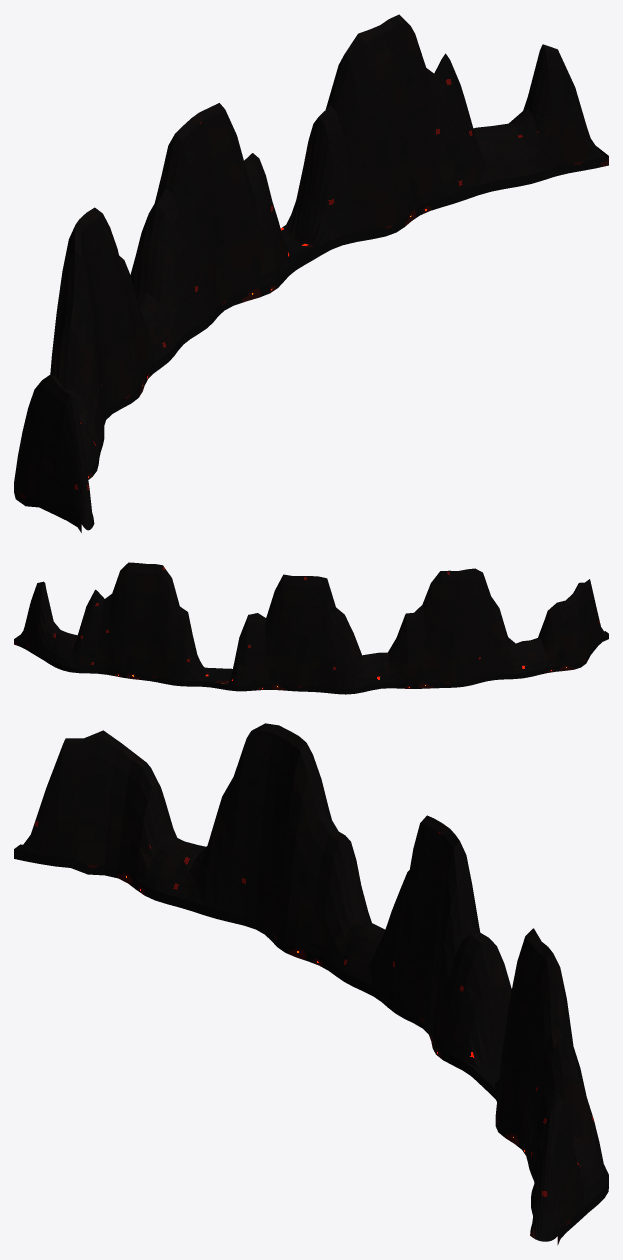
The model's file is map_base_cover_s4.glb.
The picture shows the model from 3 angles, top to bottom: view 1: azimuth 30°, elevation 25°; view 2: azimuth 150°, elevation 25°; view 3: azimuth 270°, elevation 25°; orthographic projection. The views are drawn at different scales.
Visible parts, largest first — view 1: MapBaseCoverS4Rock; view 2: MapBaseCoverS4Rock; view 3: MapBaseCoverS4Rock.
Boxes of the visible parts, x1,y1,x2,y2 form: MapBaseCoverS4Rock: (14,14,608,532); MapBaseCoverS4Rock: (14,562,608,694); MapBaseCoverS4Rock: (14,723,608,1245).
Size of what is drawn, in the model's own units: 43.04 by 10.02 by 27.76.
2 materials, 2 textured.
